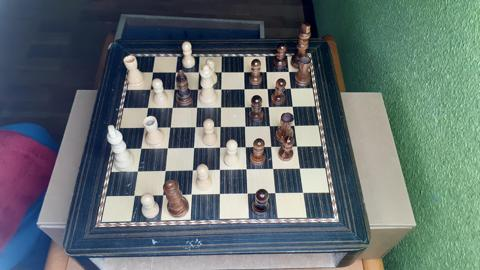xcorner: (286, 67, 293, 75), (288, 84, 295, 92), (264, 85, 272, 92), (241, 103, 249, 110), (167, 103, 174, 111), (243, 166, 251, 173), (300, 190, 308, 197), (272, 190, 280, 197), (263, 68, 270, 75), (240, 68, 247, 75), (217, 68, 224, 75), (194, 68, 201, 75), (171, 68, 178, 75), (148, 68, 155, 75), (241, 85, 248, 92), (217, 85, 224, 92), (193, 85, 200, 92), (169, 85, 176, 92), (145, 85, 152, 92), (290, 103, 297, 110), (266, 103, 273, 110), (217, 103, 224, 110), (192, 103, 199, 110), (142, 104, 149, 111), (292, 122, 299, 129), (267, 122, 274, 129), (242, 123, 249, 130), (217, 123, 224, 130), (191, 123, 198, 130), (165, 123, 172, 130), (139, 124, 146, 131), (295, 143, 302, 150), (269, 143, 276, 150), (243, 144, 250, 151), (216, 144, 223, 151), (190, 144, 197, 151), (163, 145, 170, 152), (136, 145, 143, 152), (298, 165, 305, 172), (271, 166, 278, 173), (216, 167, 223, 174), (189, 167, 196, 174), (161, 168, 168, 175), (133, 168, 140, 175), (244, 191, 251, 198), (216, 191, 223, 198), (187, 192, 194, 199), (158, 192, 165, 199), (129, 193, 136, 200)
